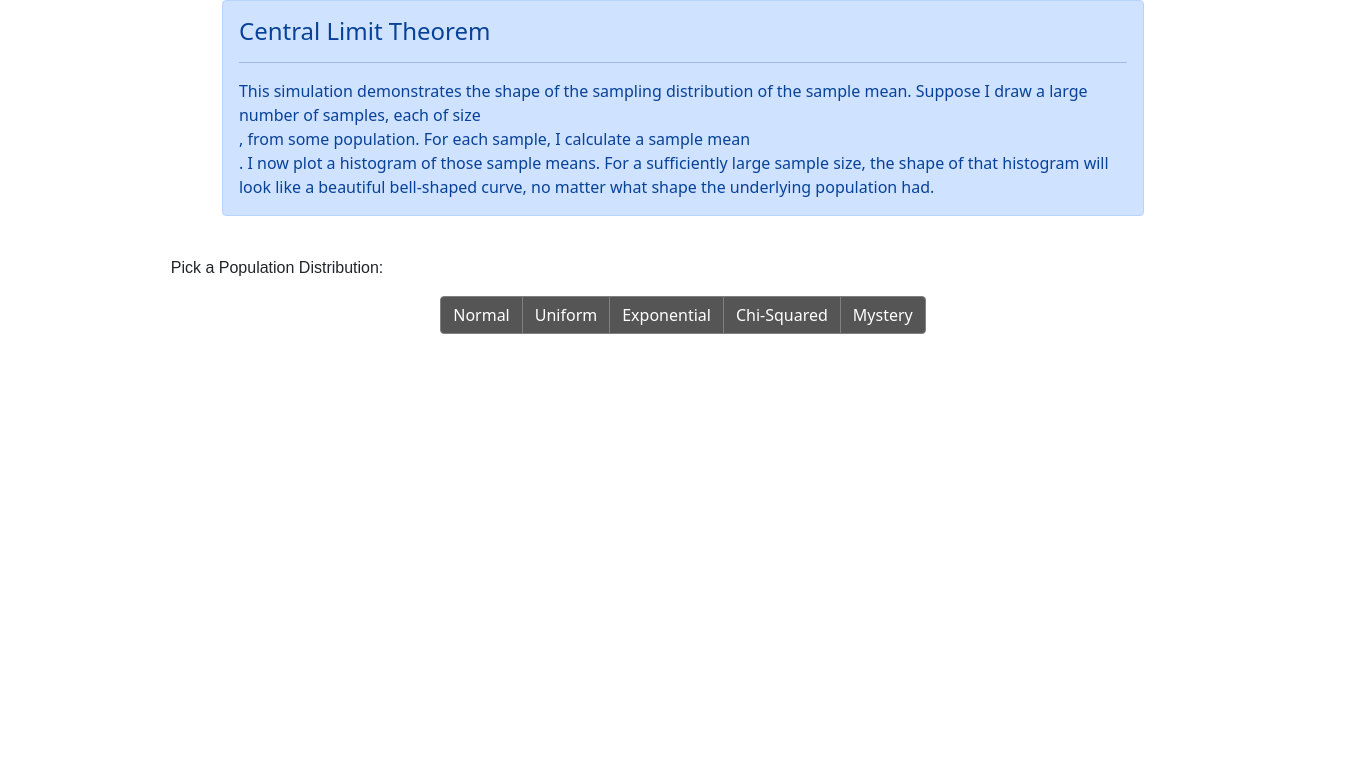
Scenario: CentralLimitTheorem integration tests › selecting population shape reveals module contents
Click the button "Normal". click: (481, 315)
box: [440,296,523,334]
(page scrolled)
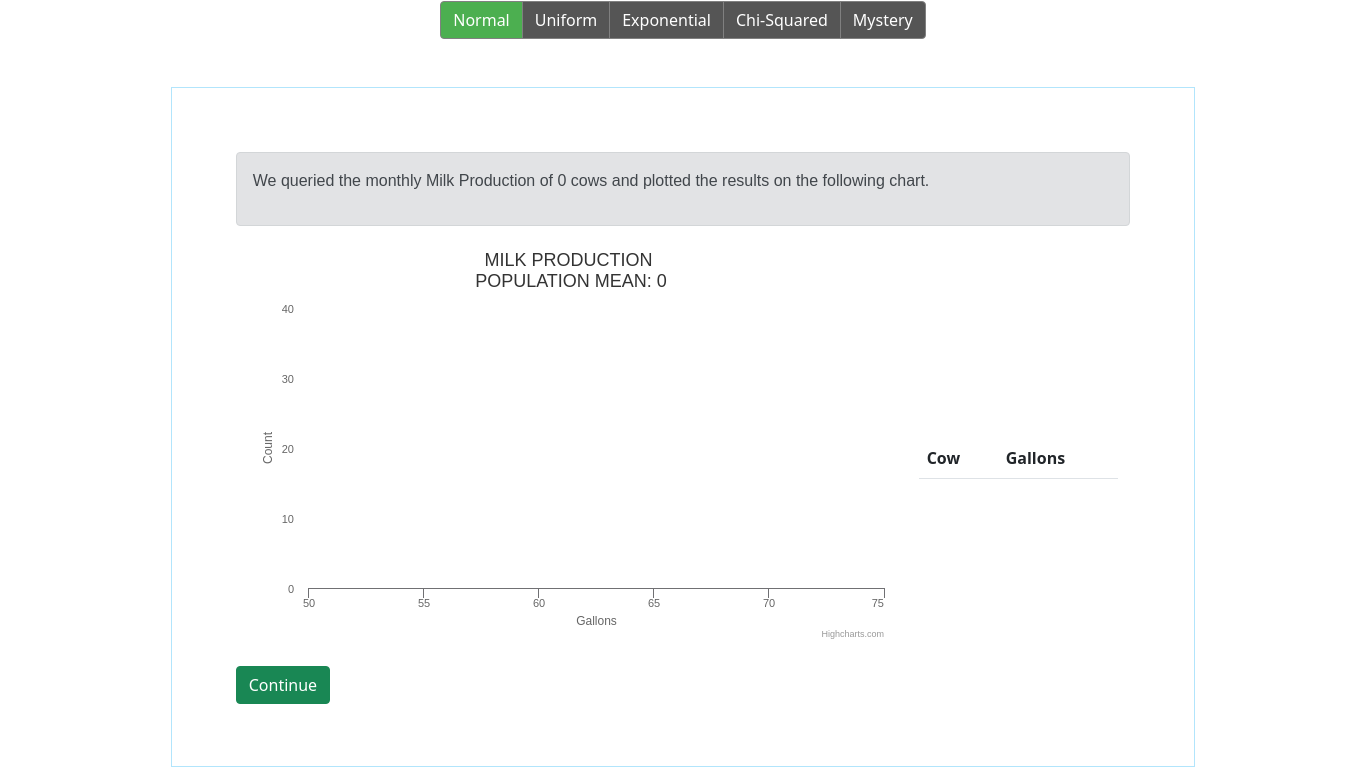
Check: the element with test id "clt-sim" is shown, box [236,152,1130,704]
